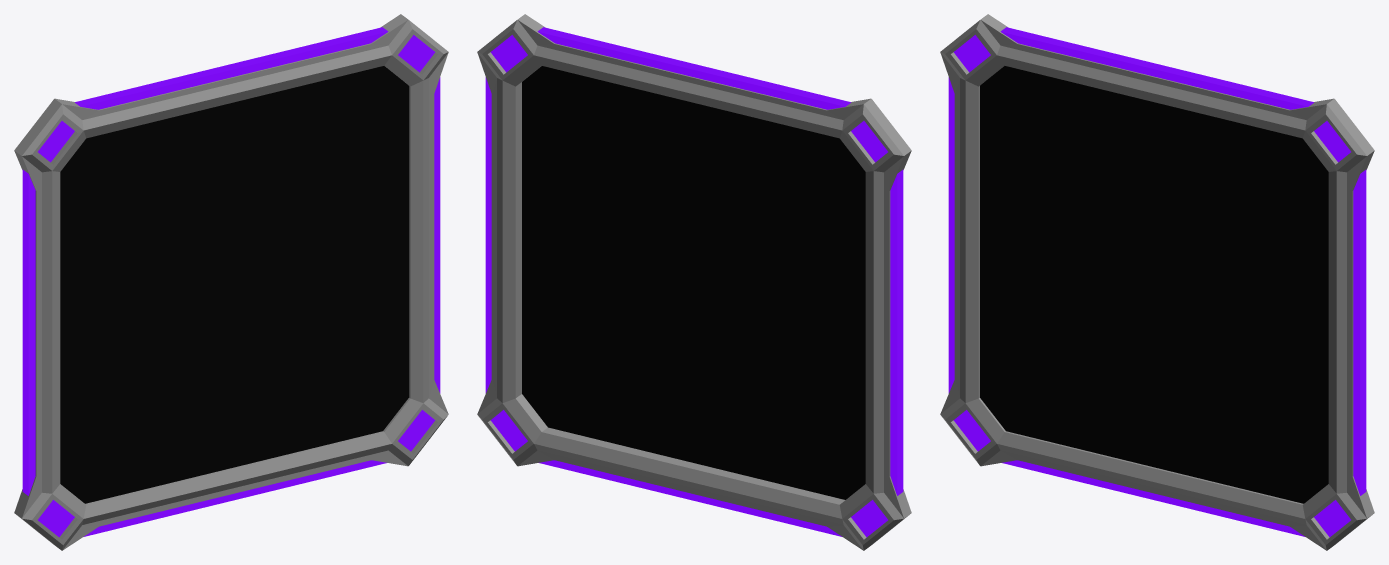
Rendered from Menu3D_Panel_Square.glb.
The picture shows the model from 3 angles, left to right: view 1: azimuth 30°, elevation 25°; view 2: azimuth 150°, elevation 25°; view 3: azimuth 330°, elevation 25°; orthographic projection.
Visible parts, largest first — view 1: MenuPanel3D; view 2: MenuPanel3D; view 3: MenuPanel3D.
Part boxes in pixels (left/top/right/bottom): MenuPanel3D: left=14, top=14, right=448, bottom=550; MenuPanel3D: left=477, top=14, right=911, bottom=550; MenuPanel3D: left=940, top=14, right=1374, bottom=550.
Size of the model in its own units: 1.91 by 1.91 by 0.0994.
1 material, 1 textured.
